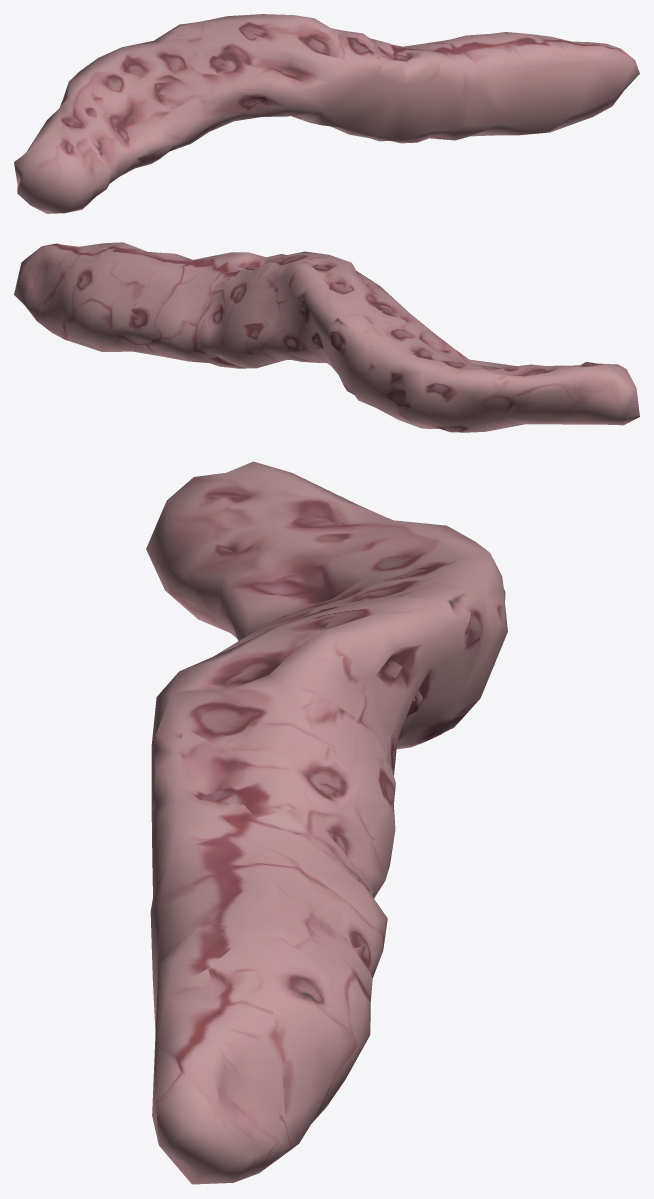
File: alveolar-septum.glb
3 renders of one model, top to bottom at view 1: azimuth 30°, elevation 25°; view 2: azimuth 150°, elevation 25°; view 3: azimuth 270°, elevation 25°, orthographic. The views are drawn at different scales.
Visible parts, largest first — view 1: alveolar-septum-tile; view 2: alveolar-septum-tile; view 3: alveolar-septum-tile.
Part boxes in pixels (x1,y1,x2,y2): alveolar-septum-tile: [14, 14, 639, 213]; alveolar-septum-tile: [14, 242, 639, 432]; alveolar-septum-tile: [146, 461, 507, 1184].
Size of the model in its own units: 4.09 by 0.9342 by 1.05.
Materials: 1 (1 with a texture image).
